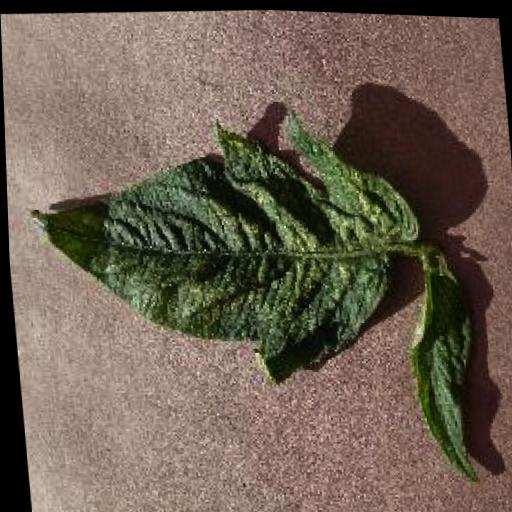Healthy: (401, 250, 484, 479)
Spider Mites: (22, 101, 430, 396)
